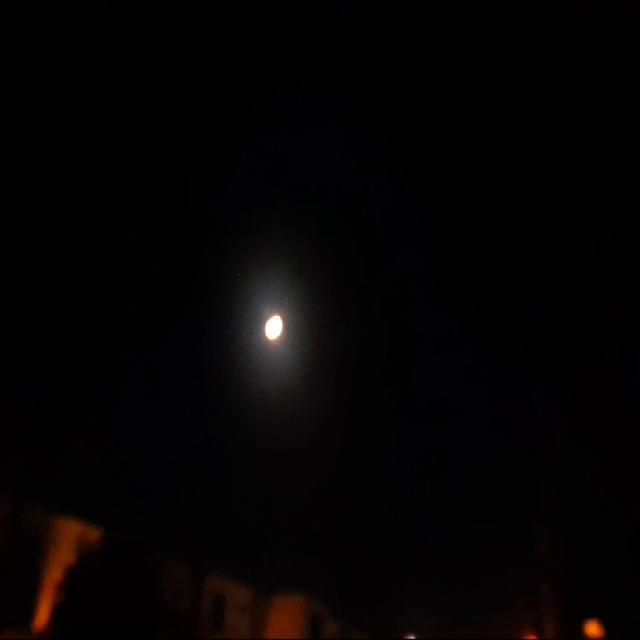moon: (259, 308, 281, 347)
